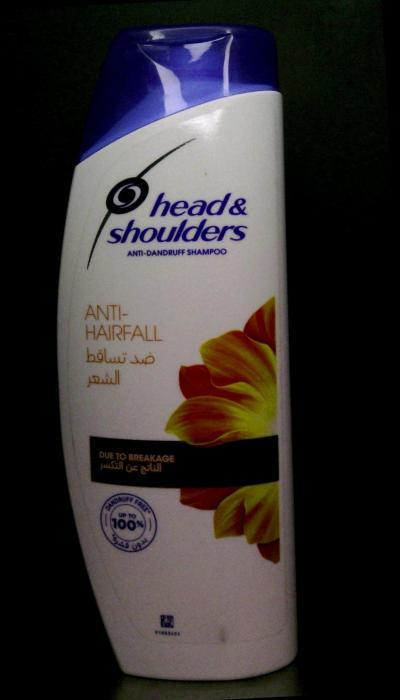tear_unacc: (197, 610, 243, 653)
